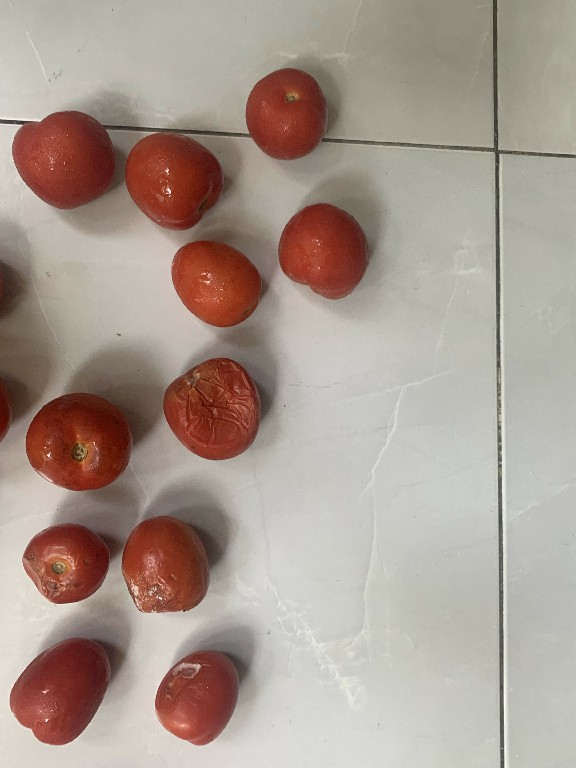NG: (155, 351, 265, 468), (112, 510, 221, 616), (151, 650, 243, 748), (10, 518, 110, 603)
OK: (4, 635, 119, 750), (116, 121, 227, 237), (18, 387, 133, 497), (6, 102, 115, 208), (271, 195, 371, 305), (159, 239, 271, 329), (235, 63, 331, 164)
